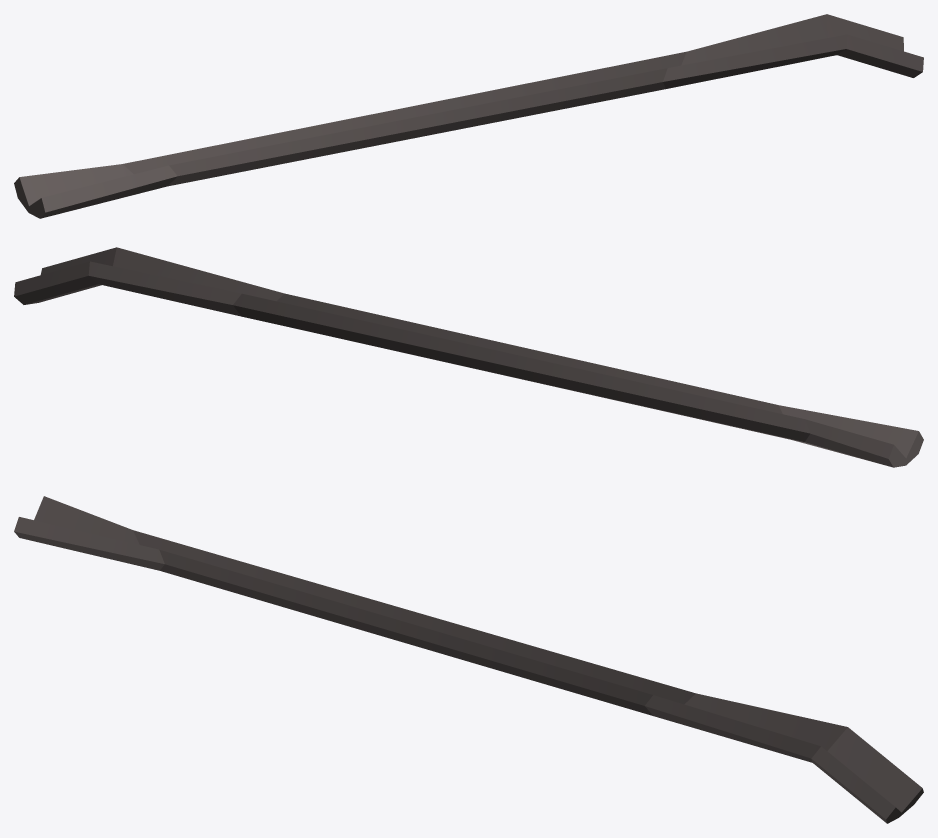
File: House Gutter.fbx
3 renders of one model, top to bottom at view 1: azimuth 30°, elevation 25°; view 2: azimuth 150°, elevation 25°; view 3: azimuth 330°, elevation 25°, orthographic. The views are drawn at different scales.
Parts seen in each view (by area): view 1: House Gutter; view 2: House Gutter; view 3: House Gutter.
Part boxes in pixels (x1,y1,x2,y2): House Gutter: (14, 14, 923, 218); House Gutter: (14, 247, 923, 467); House Gutter: (14, 496, 923, 823).
Bounding box in the file's own units: 530 × 51 × 48.07.
